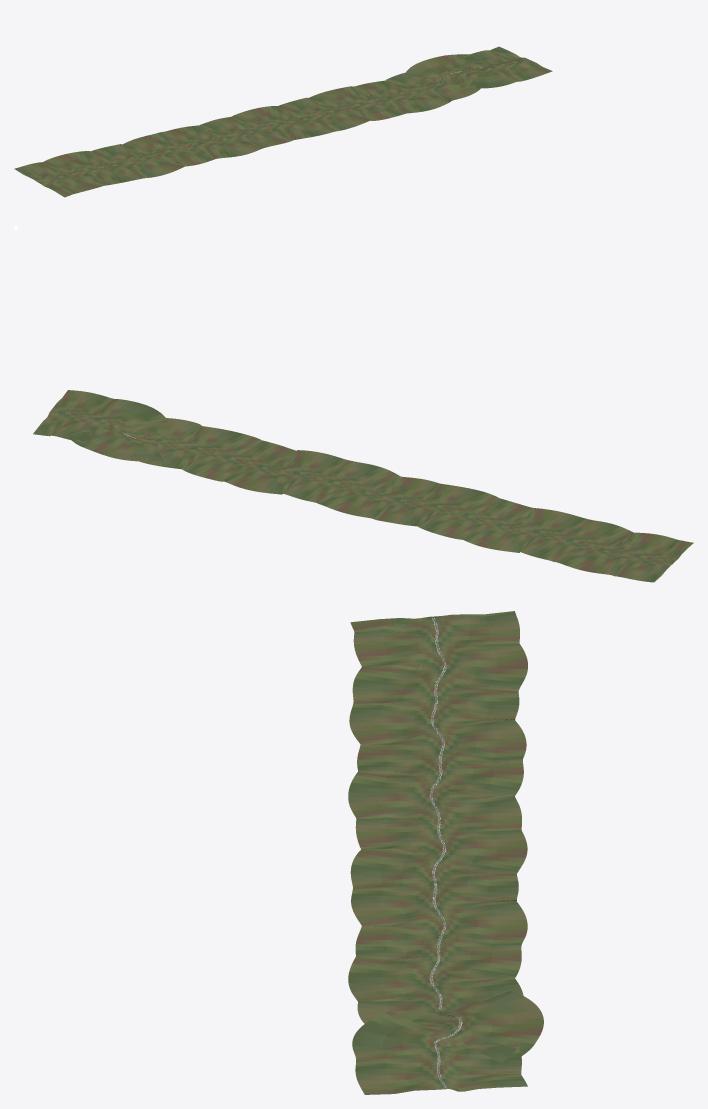
Rendered from kwaremont.glb.
3 views of the same model, one above another, from view 1: azimuth 30°, elevation 25°; view 2: azimuth 150°, elevation 25°; view 3: azimuth 270°, elevation 25° (orthographic). The views are drawn at different scales.
Visible parts, largest first — view 1: KwaremontFields_062, KwaremontFields_057, KwaremontFields_056, KwaremontFields_055, KwaremontFields_058, KwaremontFields_051, KwaremontFields_054, KwaremontFields_052, KwaremontFields_053, KwaremontFields_016, KwaremontFields_031, KwaremontFields_020 (+54 smaller); view 2: KwaremontFields_062, KwaremontFields_055, KwaremontFields_057, KwaremontFields_060, KwaremontFields_023; view 3: KwaremontFields_062, KwaremontFields_064, KwaremontFields_025, KwaremontFields_006, KwaremontFields_013, KwaremontFields_065, KwaremontFields_014, KwaremontFields_045, KwaremontFields_046, KwaremontFields_012, KwaremontFields_044, KwaremontFields_005 (+57 smaller).
Part boxes in pixels (x1=…): KwaremontFields_062: x1=477, y1=65, x2=513, y2=88; KwaremontFields_057: x1=407, y1=62, x2=458, y2=80; KwaremontFields_056: x1=428, y1=76, x2=479, y2=94; KwaremontFields_055: x1=427, y1=78, x2=471, y2=100; KwaremontFields_058: x1=421, y1=56, x2=461, y2=80; KwaremontFields_051: x1=389, y1=81, x2=442, y2=110; KwaremontFields_054: x1=403, y1=70, x2=452, y2=101; KwaremontFields_052: x1=386, y1=77, x2=449, y2=105; KwaremontFields_053: x1=391, y1=73, x2=449, y2=102; KwaremontFields_016: x1=123, y1=140, x2=185, y2=166; KwaremontFields_031: x1=234, y1=112, x2=292, y2=141; KwaremontFields_020: x1=162, y1=131, x2=211, y2=163; KwaremontFields_062: x1=98, y1=400, x2=158, y2=429; KwaremontFields_055: x1=157, y1=418, x2=198, y2=449; KwaremontFields_057: x1=123, y1=431, x2=156, y2=463; KwaremontFields_060: x1=72, y1=426, x2=137, y2=447; KwaremontFields_023: x1=418, y1=494, x2=497, y2=530; KwaremontFields_062: x1=352, y1=1024, x2=467, y2=1053; KwaremontFields_064: x1=356, y1=1051, x2=521, y2=1066; KwaremontFields_025: x1=348, y1=793, x2=513, y2=809; KwaremontFields_006: x1=362, y1=653, x2=527, y2=670; KwaremontFields_013: x1=349, y1=706, x2=515, y2=719; KwaremontFields_065: x1=355, y1=1061, x2=521, y2=1073; KwaremontFields_014: x1=349, y1=717, x2=514, y2=731; KwaremontFields_045: x1=356, y1=930, x2=522, y2=946; KwaremontFields_046: x1=355, y1=941, x2=521, y2=952; KwaremontFields_012: x1=352, y1=702, x2=518, y2=715; KwaremontFields_044: x1=360, y1=925, x2=526, y2=942; KwaremontFields_005: x1=359, y1=645, x2=525, y2=667.
Bounding box in the file's own units: 19496 × 2396 × 5404.
